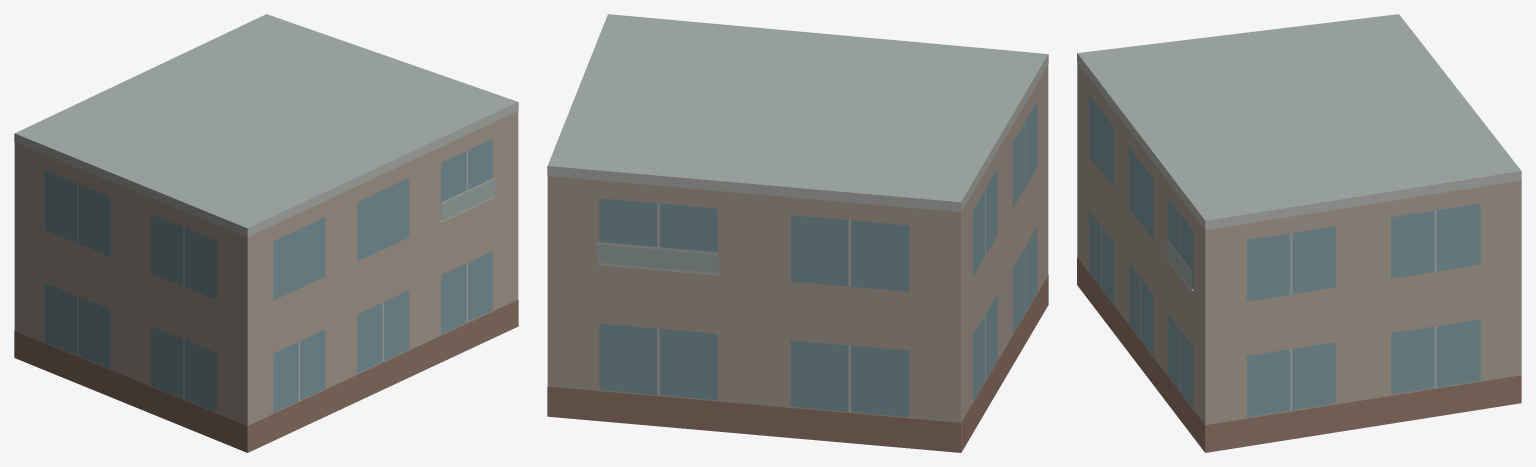
The model's file is survey-upis-32536286.glb.
3 renders of one model, left to right at view 1: azimuth 30°, elevation 25°; view 2: azimuth 150°, elevation 25°; view 3: azimuth 270°, elevation 25°, orthographic. The views are drawn at different scales.
Visible parts, largest first — view 1: survey-upis-32536286.tmp; view 2: survey-upis-32536286.tmp; view 3: survey-upis-32536286.tmp.
Boxes of the visible parts, x1=… form: survey-upis-32536286.tmp: x1=14, y1=14, x2=518, y2=452; survey-upis-32536286.tmp: x1=547, y1=14, x2=1048, y2=452; survey-upis-32536286.tmp: x1=1077, y1=14, x2=1521, y2=452.
Bounding box in the file's own units: 11.67 × 6.1 × 10.6.
